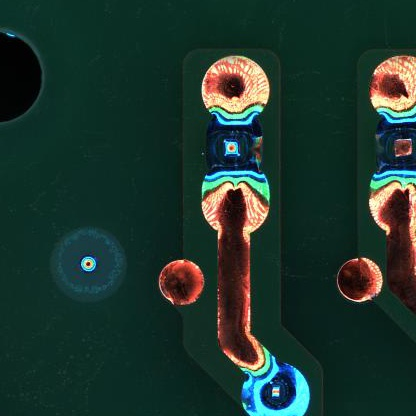spot: (200, 112, 266, 177), (238, 363, 311, 416), (372, 114, 416, 174)
